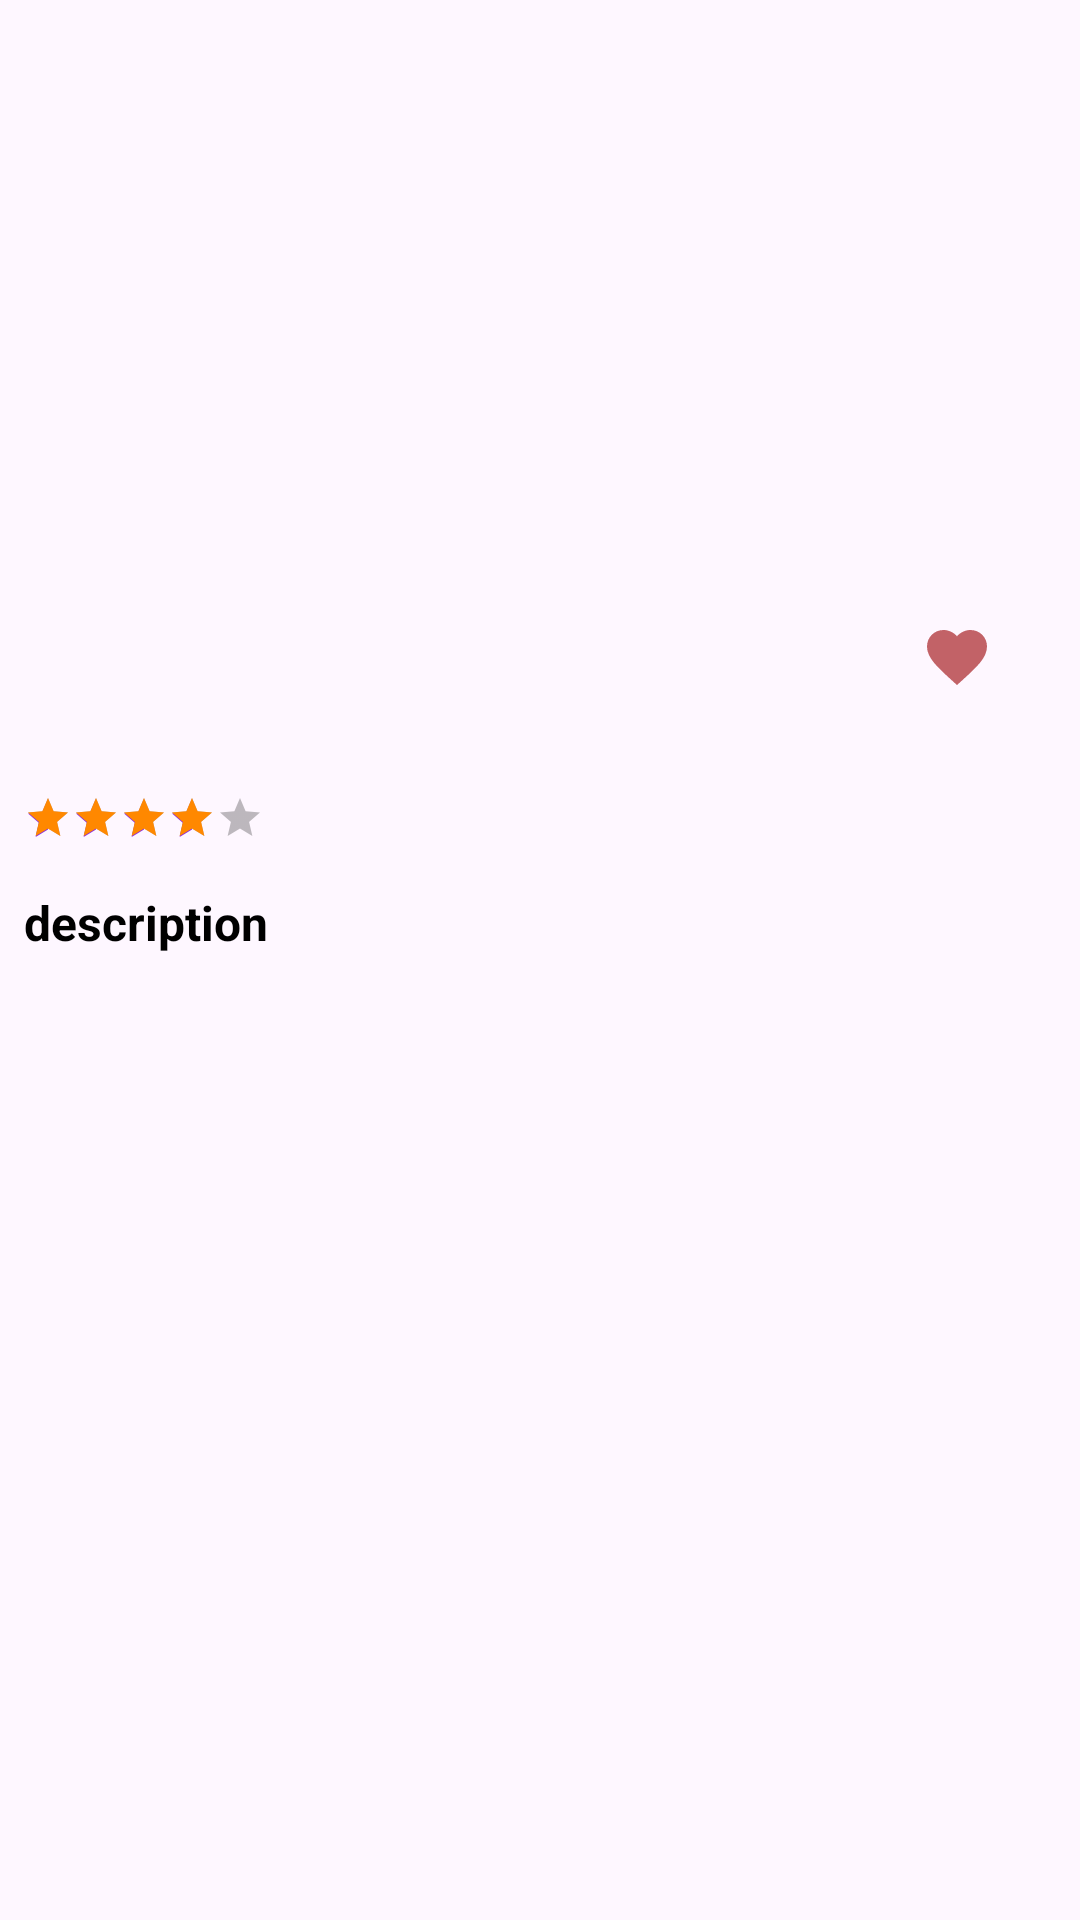

Icons on this 1080 x 1920 Android screen, each with the point to tap as point (x, y):
tombol untuk menambahkan produk ke favorit: point (957, 657)
